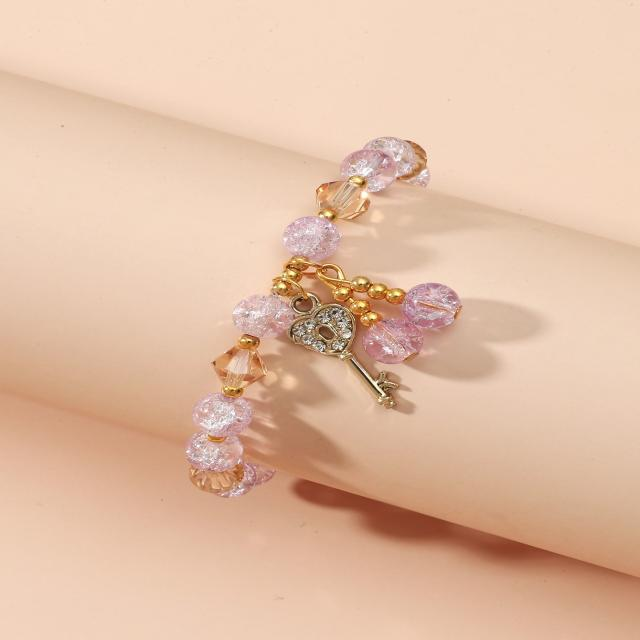bracelet: (123, 62, 508, 574)
